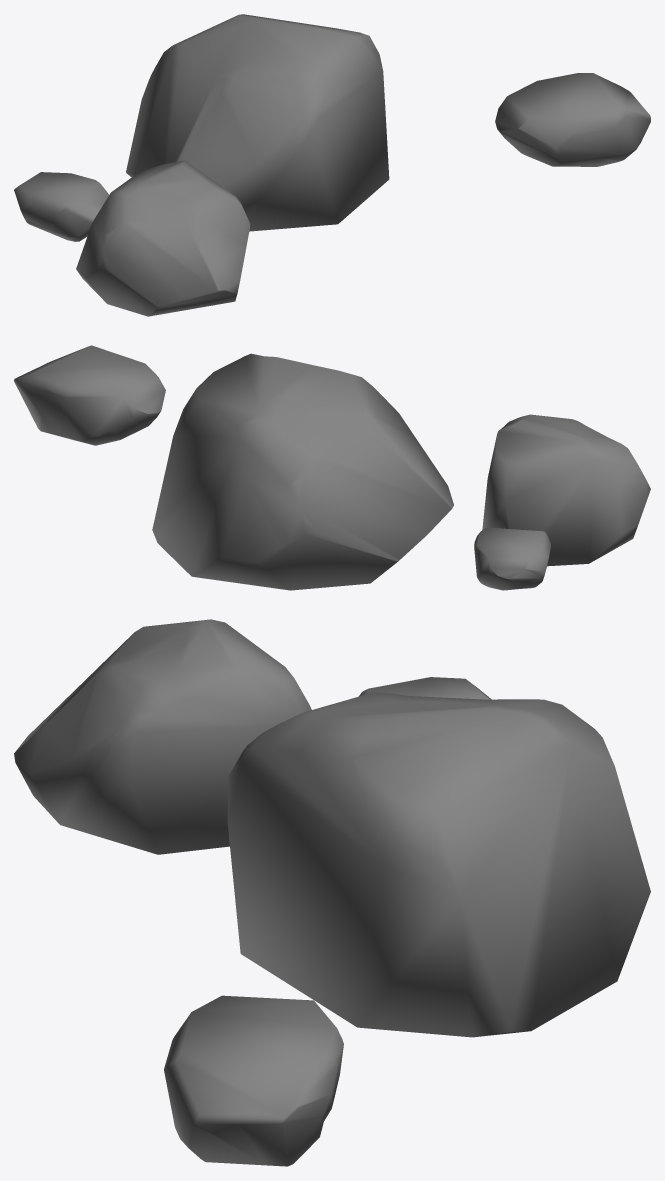
The model's file is RockSmall.fbx.
The picture shows the model from 3 angles, top to bottom: view 1: azimuth 30°, elevation 25°; view 2: azimuth 150°, elevation 25°; view 3: azimuth 270°, elevation 25°; orthographic projection. The views are drawn at different scales.
Visible parts, largest first — view 1: Rock_2; view 2: Rock_2; view 3: Rock_2.
Part boxes in pixels (x1,y1,x2,y2): Rock_2: [14, 14, 650, 316]; Rock_2: [14, 345, 650, 590]; Rock_2: [14, 619, 650, 1166].
Bounding box in the file's own units: 0.5128 × 0.1362 × 0.304.
